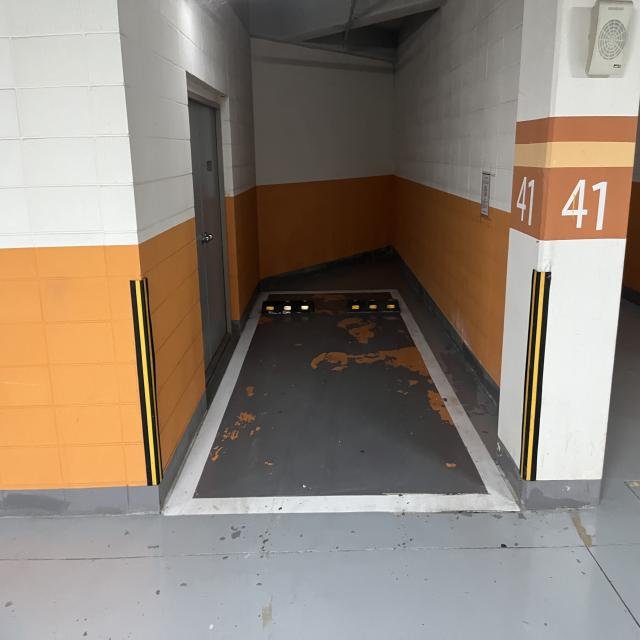empty: (158, 284, 525, 517)
